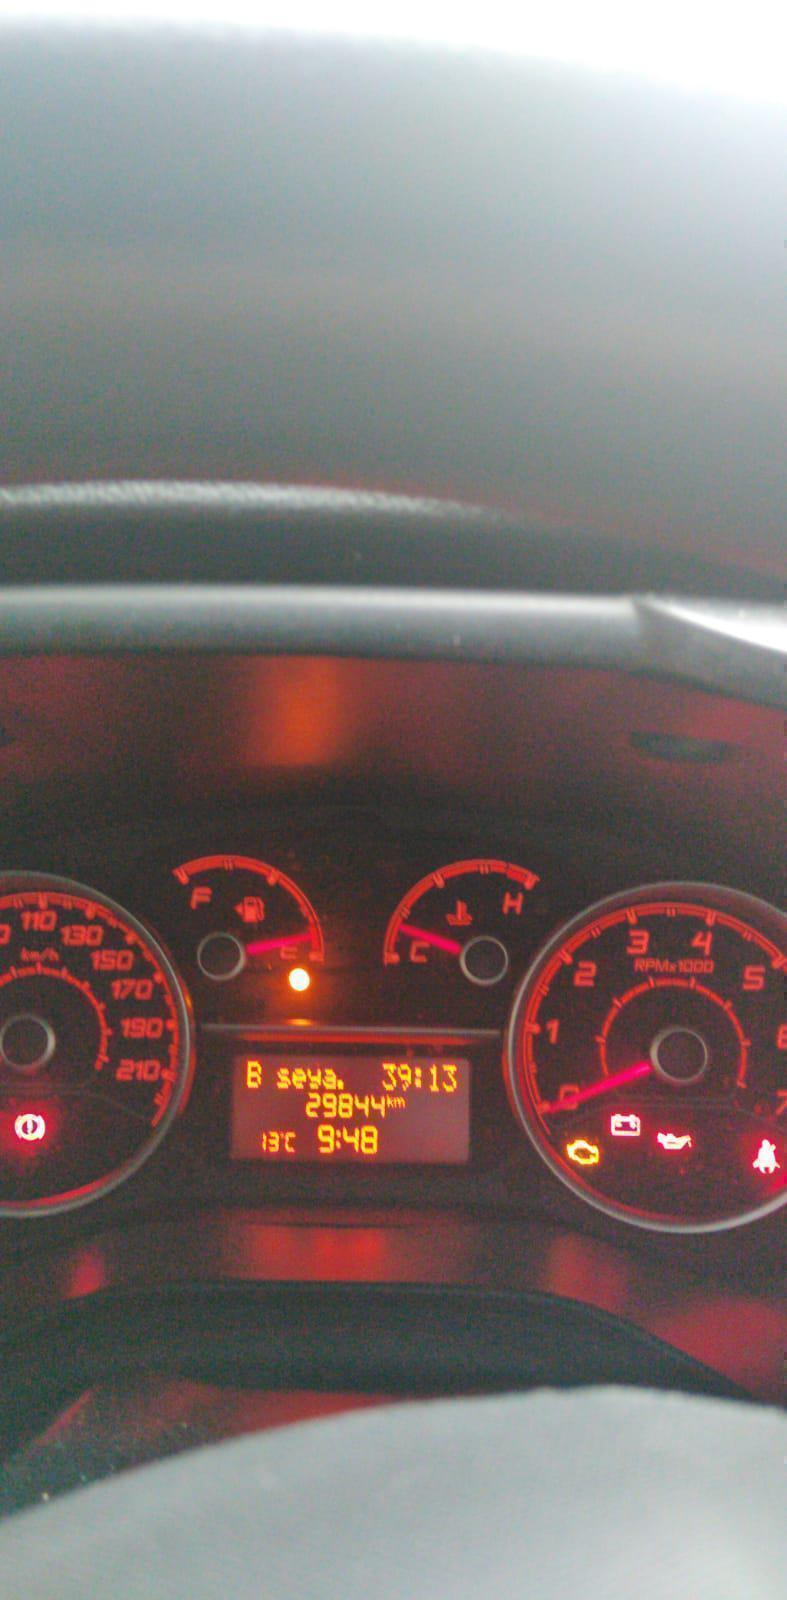,: (337, 1077, 346, 1090)
1: (428, 1061, 440, 1094), (261, 1129, 266, 1153)
2: (306, 1092, 319, 1118)
3: (442, 1063, 458, 1093), (381, 1060, 396, 1090), (267, 1129, 279, 1152)
4: (342, 1124, 359, 1152), (370, 1093, 386, 1116), (354, 1092, 368, 1116)
8: (360, 1124, 378, 1154), (338, 1092, 352, 1118)
9: (317, 1123, 334, 1154), (322, 1091, 337, 1117)
X: (246, 1058, 263, 1088), (322, 1067, 337, 1090), (275, 1066, 290, 1089), (306, 1067, 321, 1090), (291, 1066, 305, 1089), (284, 1131, 297, 1153), (413, 1064, 423, 1089), (393, 1095, 406, 1108), (385, 1093, 394, 1109), (335, 1126, 341, 1149)
odometer: (233, 1053, 473, 1166)
